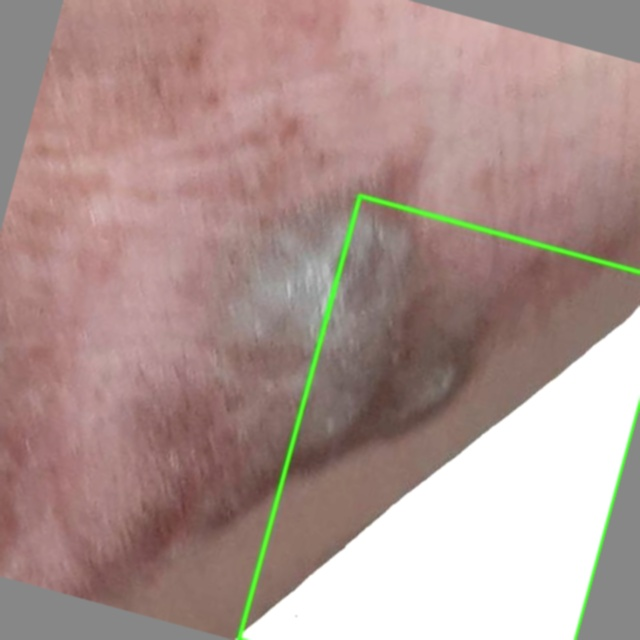Contact Dermatitis: (238, 196, 639, 639)
